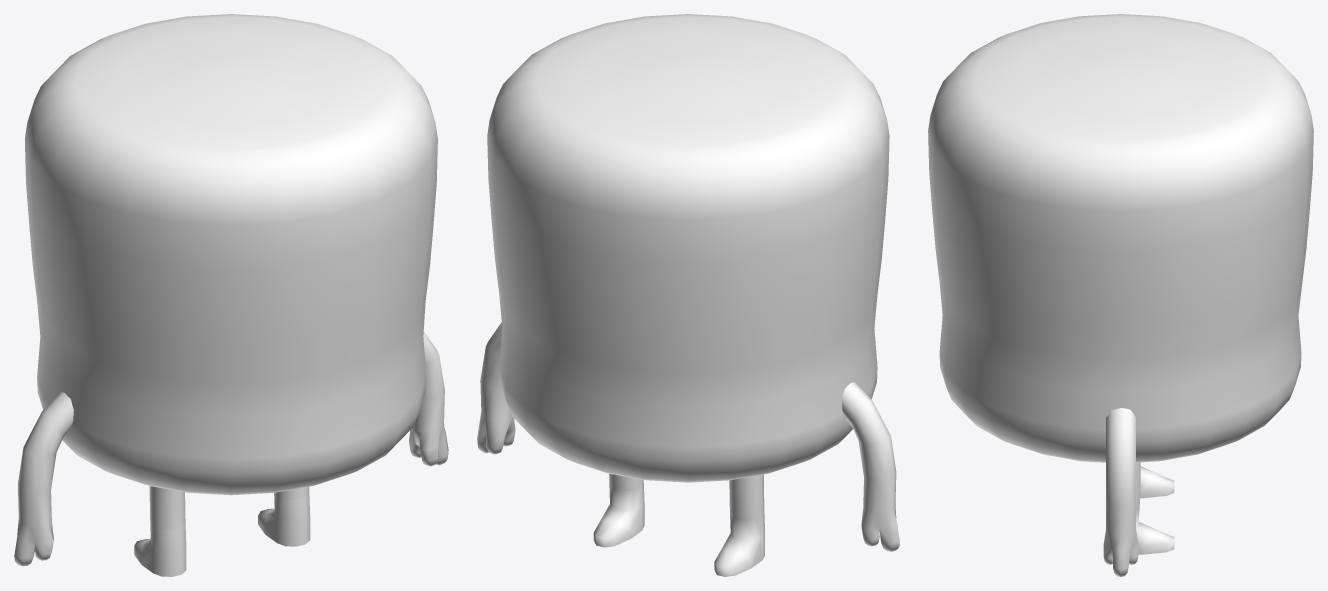
Rendered from MM01_Jeff.fbx.
3 views of the same model, side by side, from view 1: azimuth 30°, elevation 25°; view 2: azimuth 150°, elevation 25°; view 3: azimuth 270°, elevation 25° (orthographic). The views are drawn at different scales.
Visible parts, largest first — view 1: Connect_1; view 2: Connect_1; view 3: Connect_1.
Boxes of the visible parts, x1,y1,x2,y2 form: Connect_1: (14,14,448,576); Connect_1: (477,14,899,576); Connect_1: (928,14,1313,576).
Size of the model in its own units: 24.88 by 26.36 by 20.5.
Materials: 1 (1 with a texture image).
